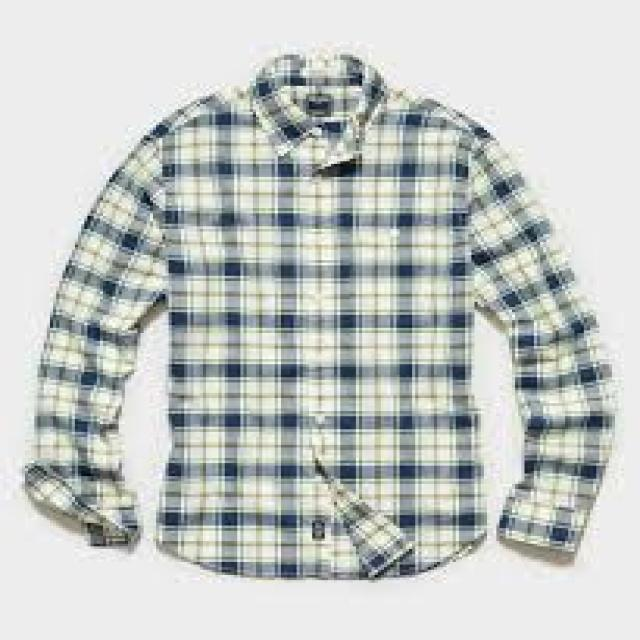plaid: (29, 43, 617, 580)
